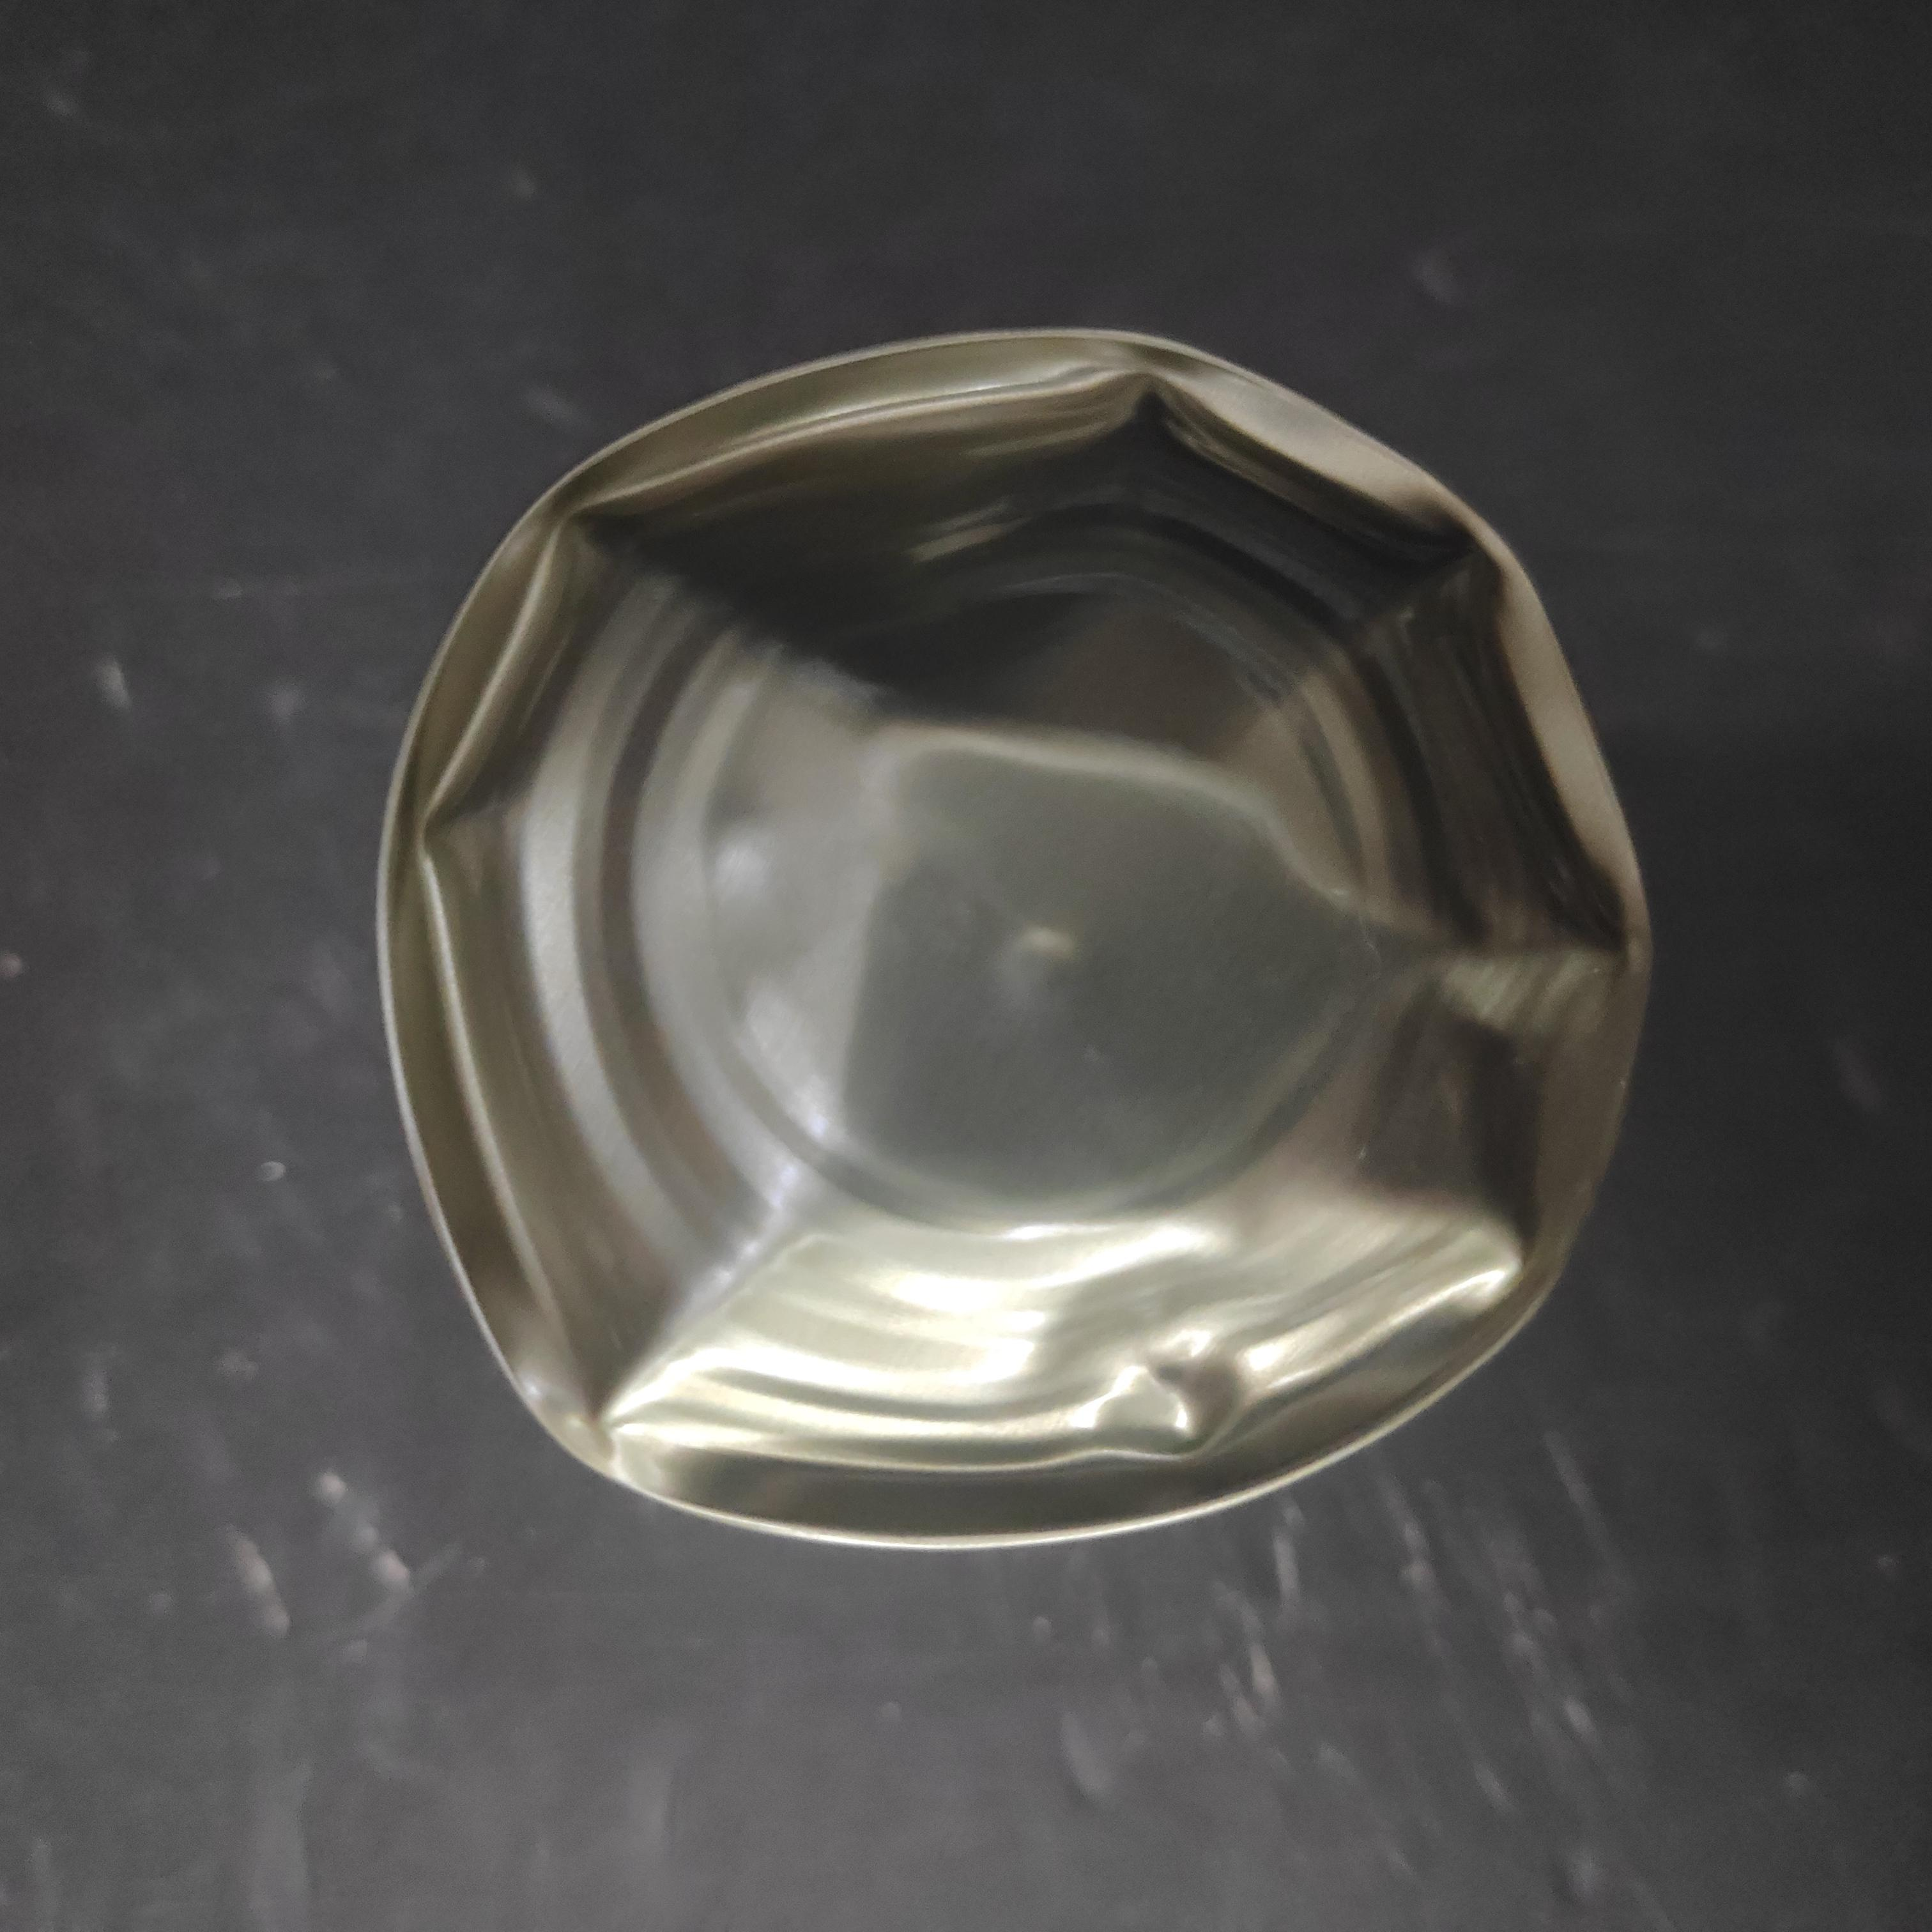Critical Defect: (368, 364, 1626, 1663)
